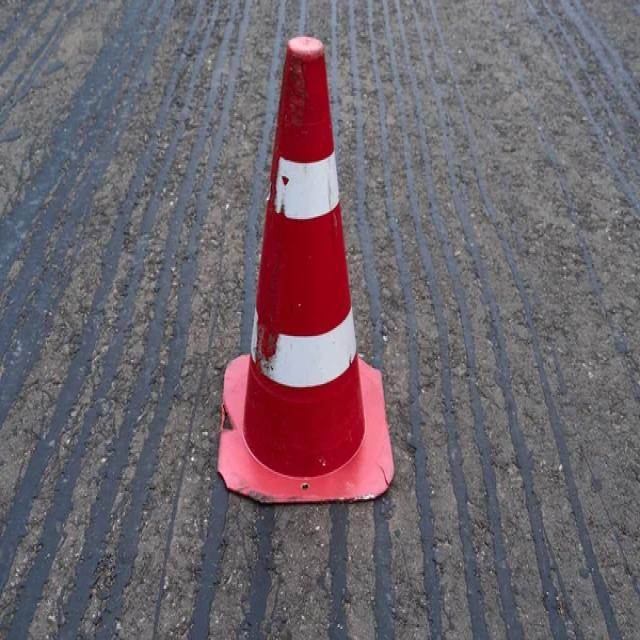Traffic Cone: (164, 12, 470, 582)
